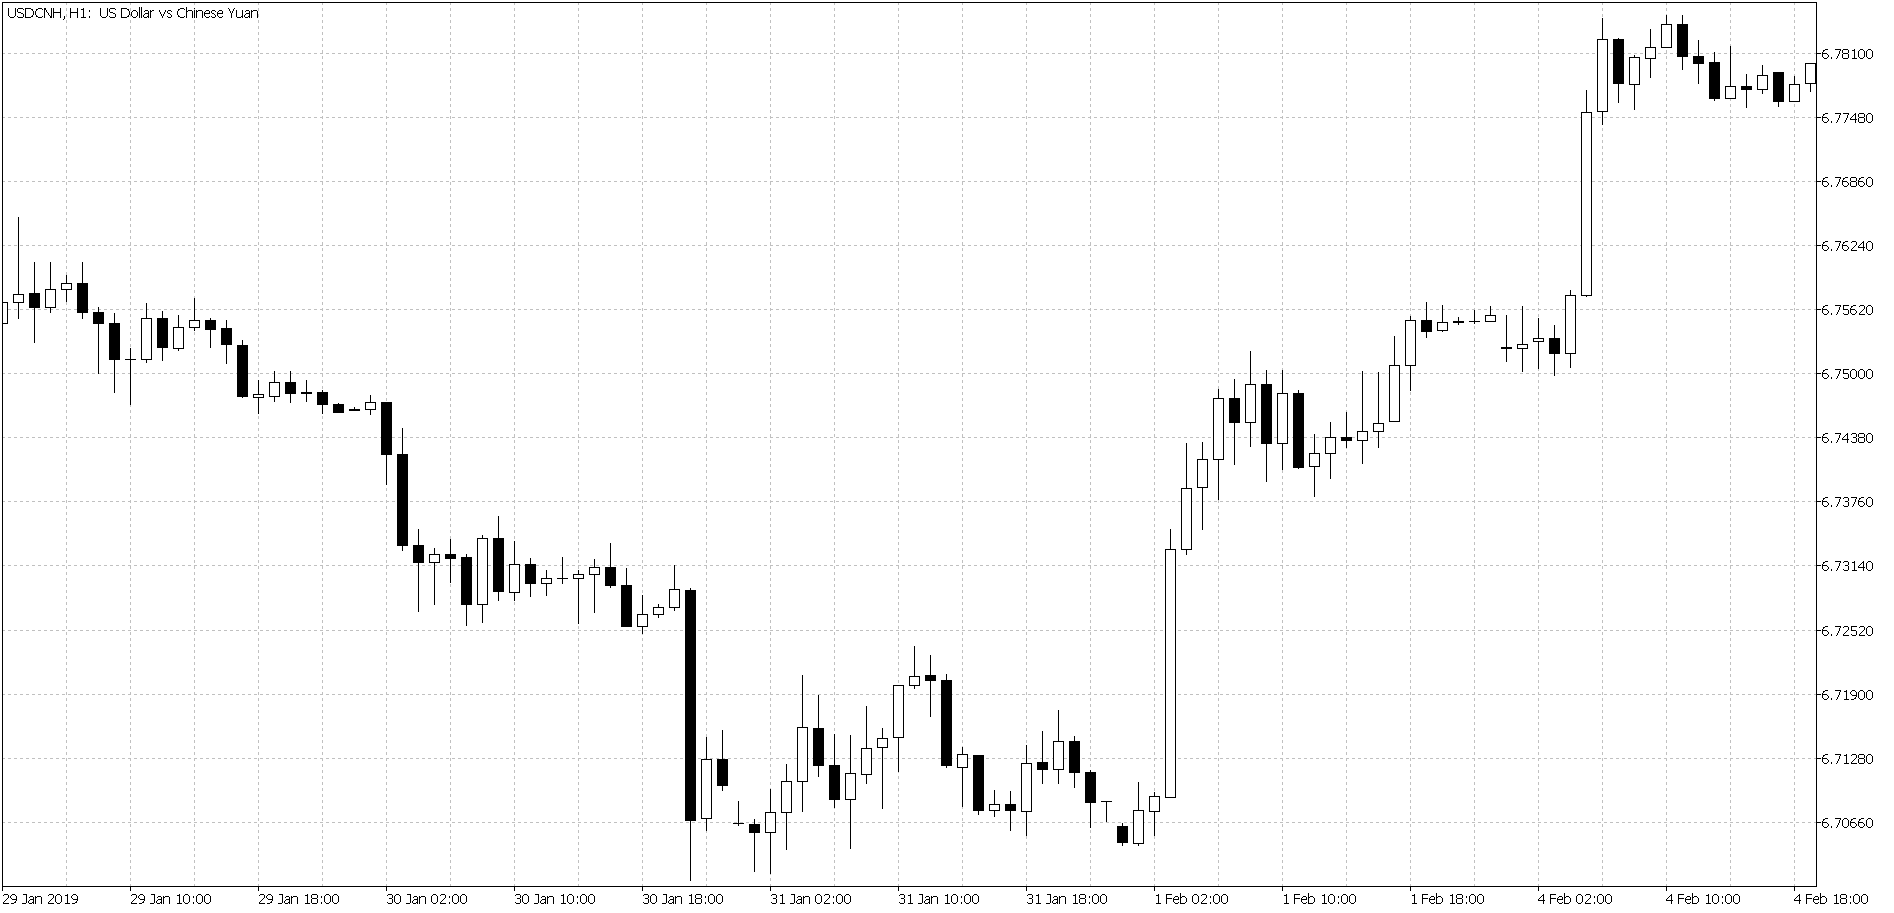bullishEngulfing: (1117, 779, 1145, 856)
